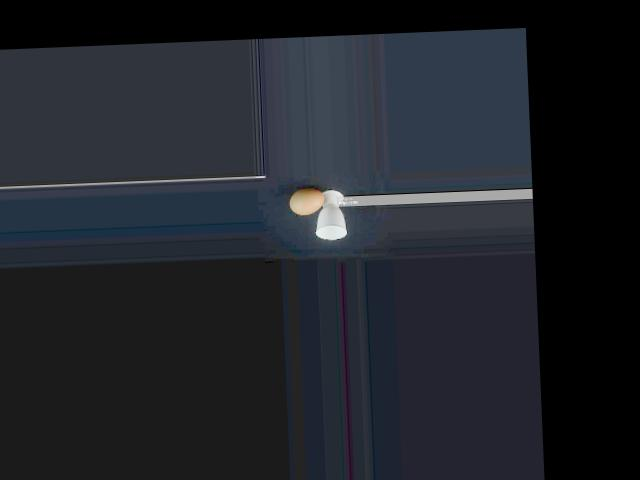egg: (290, 189, 325, 215)
